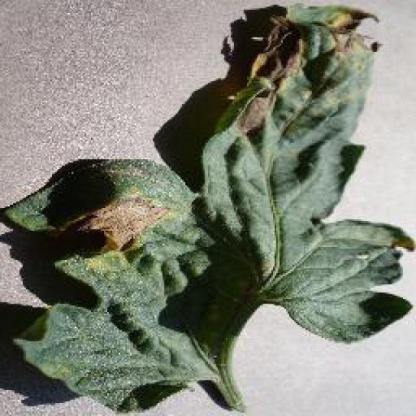Tomato_Blight: (4, 3, 413, 404)
